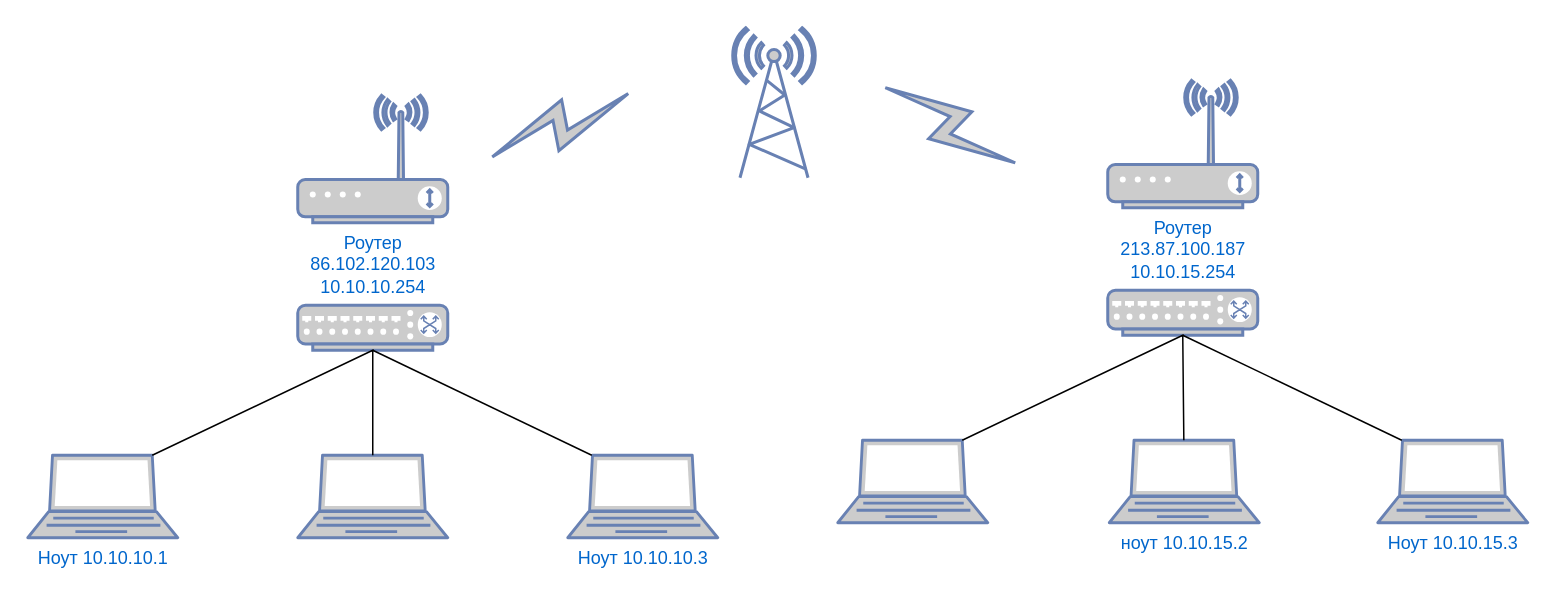
This 1554x594 diagram has some shape labels left out. Here are the shapes that lost their labels. From the top down, the box of each, then its label:
(296, 453, 448, 538): ноут 10.10.10.2
(836, 438, 988, 524): Ноут 10.10.15.1
